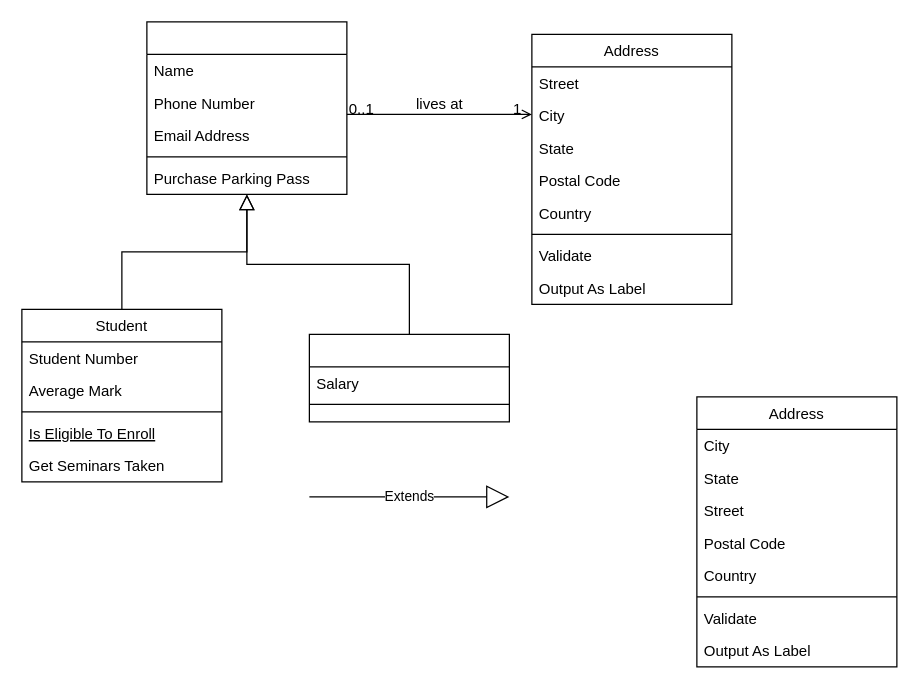
This 919x693 diagram has some shape labels left out. Here are the shapes that lost their labels. From the top down, the box of each, then its label:
(146, 21, 347, 194): Person
(308, 333, 509, 422): Professor
